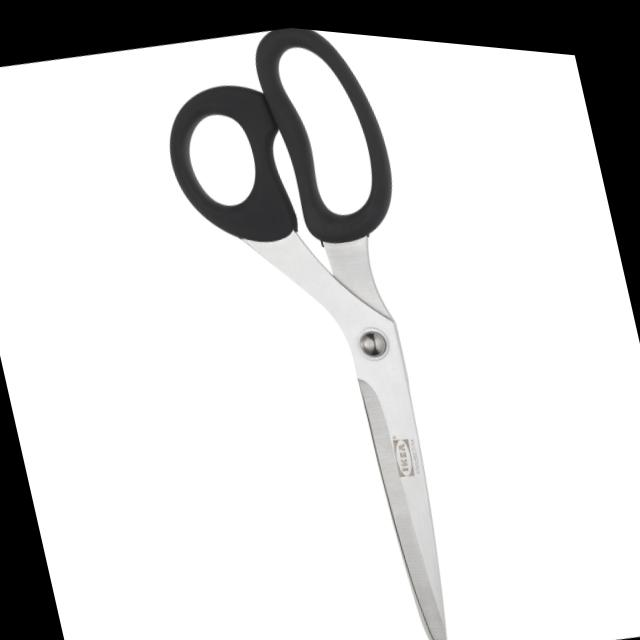scissor: (138, 10, 510, 640)
